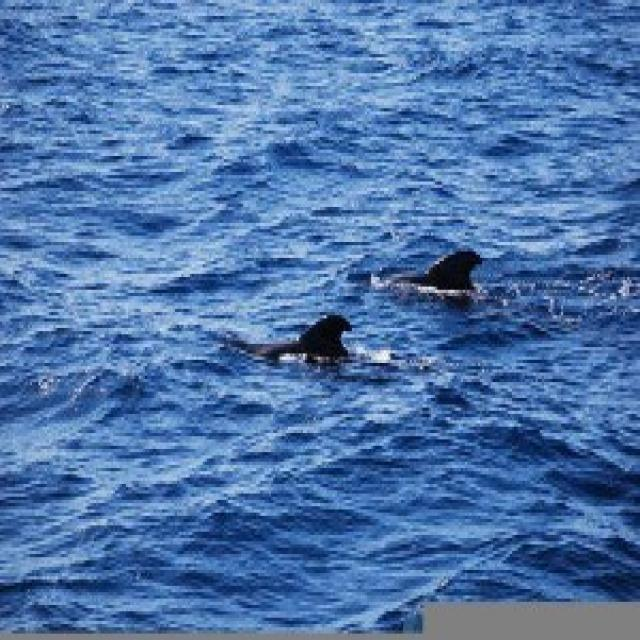Dolphin: (206, 304, 388, 412), (373, 243, 522, 307)
